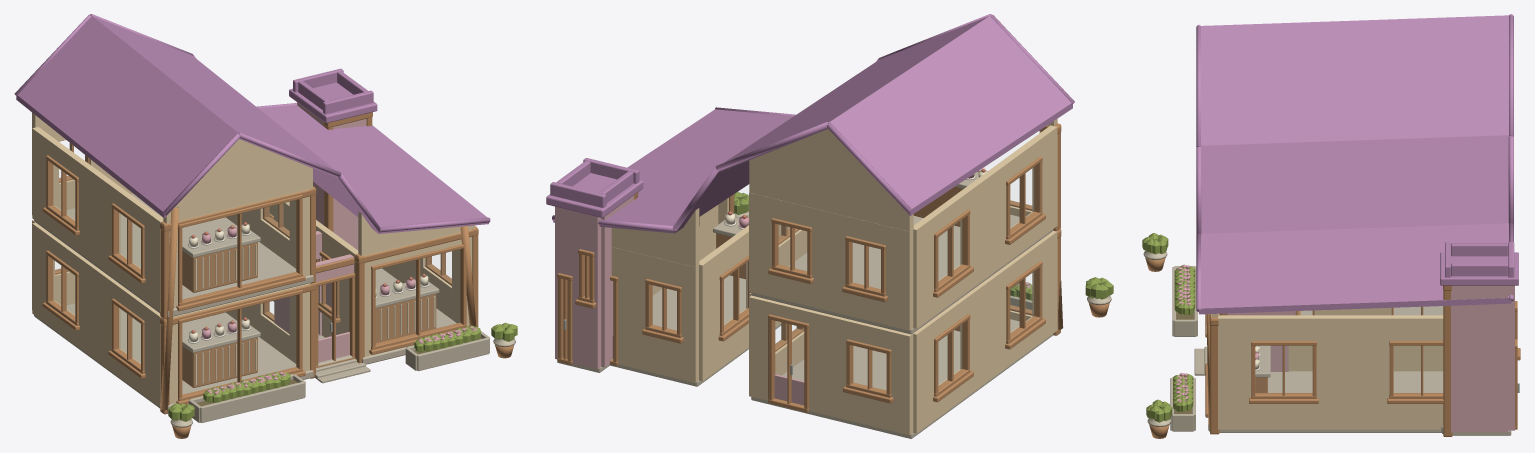
3 views of the same model, side by side, from view 1: azimuth 30°, elevation 25°; view 2: azimuth 150°, elevation 25°; view 3: azimuth 270°, elevation 25° (orthographic). The views are drawn at different scales.
Visible parts, largest first — view 1: SM_10_01_建筑墙体, SM_10_02_曲面屋顶, SM_10_04_门窗楼梯, SM_10_06_景观设施, SM_10_03_木构回廊, SM_10_05_景观植物; view 2: SM_10_01_建筑墙体, SM_10_02_曲面屋顶, SM_10_04_门窗楼梯, SM_10_05_景观植物, SM_10_06_景观设施, SM_10_03_木构回廊; view 3: SM_10_02_曲面屋顶, SM_10_01_建筑墙体, SM_10_05_景观植物, SM_10_04_门窗楼梯, SM_10_03_木构回廊, SM_10_06_景观设施.
Boxes of the visible parts, x1,y1,x2,y2 form: SM_10_01_建筑墙体: (32, 102, 475, 412); SM_10_02_曲面屋顶: (14, 14, 490, 233); SM_10_04_门窗楼梯: (42, 140, 467, 404); SM_10_06_景观设施: (182, 222, 439, 387); SM_10_03_木构回廊: (160, 112, 478, 414); SM_10_05_景观植物: (168, 322, 517, 438); SM_10_01_建筑墙体: (555, 118, 1057, 438); SM_10_02_曲面屋顶: (546, 14, 1074, 233); SM_10_04_门窗楼梯: (557, 156, 1045, 412); SM_10_05_景观植物: (734, 192, 1113, 317); SM_10_06_景观设施: (713, 168, 987, 331); SM_10_03_木构回廊: (634, 123, 1063, 335); SM_10_02_曲面屋顶: (1196, 14, 1518, 314); SM_10_01_建筑墙体: (1208, 285, 1514, 435); SM_10_05_景观植物: (1142, 233, 1197, 438); SM_10_04_门窗楼梯: (1194, 301, 1520, 429); SM_10_03_木构回廊: (1206, 285, 1452, 436); SM_10_06_景观设施: (1255, 345, 1270, 392).
Size of the model in its own units: 10.72 by 8.22 by 9.56.
